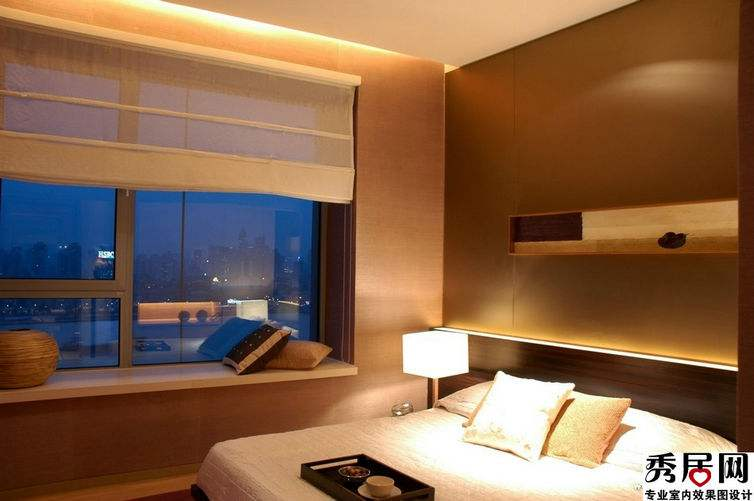床: (207, 394, 754, 499)
枕头: (441, 377, 644, 472), (204, 320, 326, 379)
灯: (399, 328, 471, 414)
